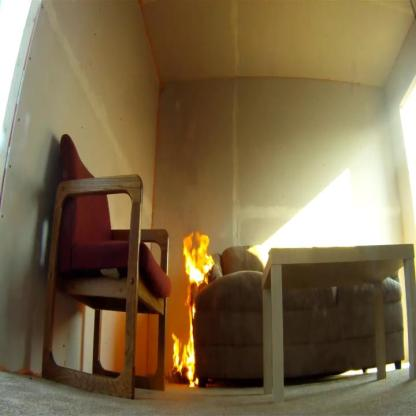fire: (172, 228, 216, 392)
